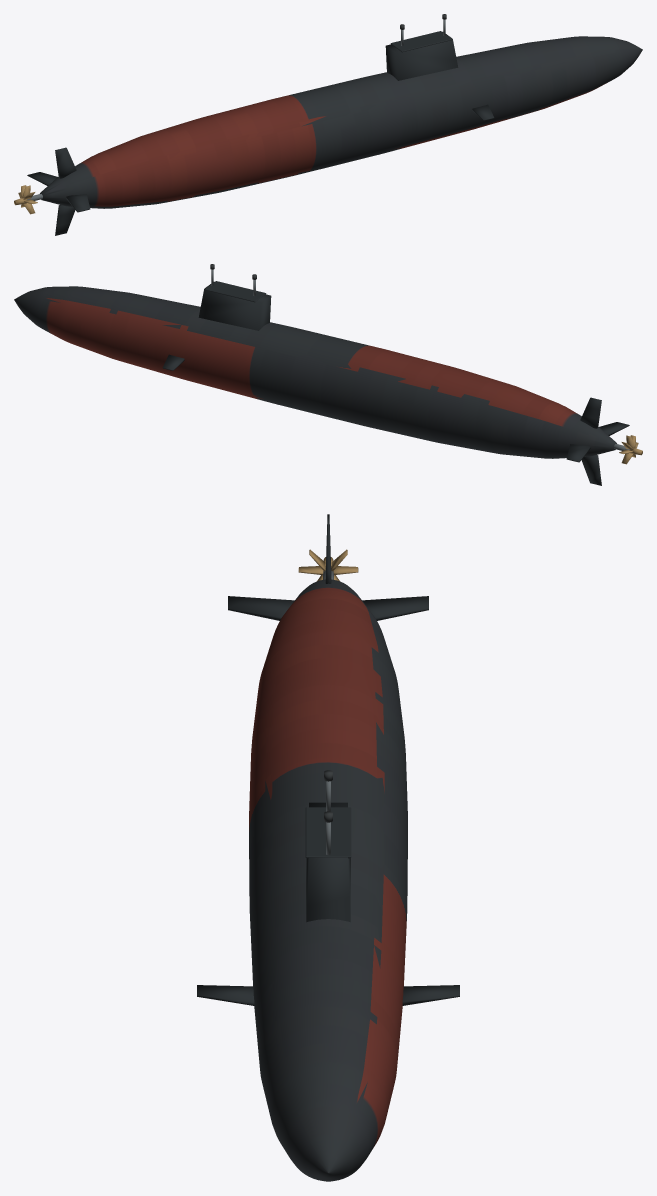
Rendered from UK_SSN_Trafalgar_LOD1.fbx.
3 renders of one model, top to bottom at view 1: azimuth 30°, elevation 25°; view 2: azimuth 150°, elevation 25°; view 3: azimuth 270°, elevation 25°, orthographic. The views are drawn at different scales.
Parts seen in each view (by area): view 1: UK_SSN_Trafalgar_LOD1; view 2: UK_SSN_Trafalgar_LOD1; view 3: UK_SSN_Trafalgar_LOD1.
Part boxes in pixels (x1,y1,x2,y2): UK_SSN_Trafalgar_LOD1: (14,14,642,235); UK_SSN_Trafalgar_LOD1: (14,264,642,485); UK_SSN_Trafalgar_LOD1: (197,514,459,1181).
Bounding box in the file's own units: 89.15 × 16.15 × 17.07.
Materials: 6 (1 with a texture image).
